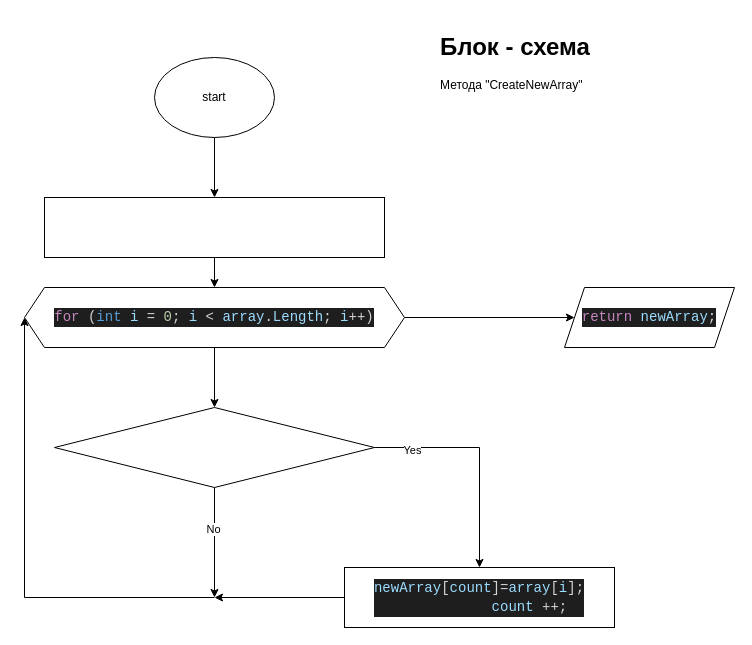
Image size: 752x645. Some labels were removed from this diagram. Here are the shapes that lost their labels. From the top down, the centre of each, then its label:
point (214, 227): string [] newArray = new string [ len ]; int count = 0 ;
point (214, 447): if ( array [ i ]. Length >= 3 )
